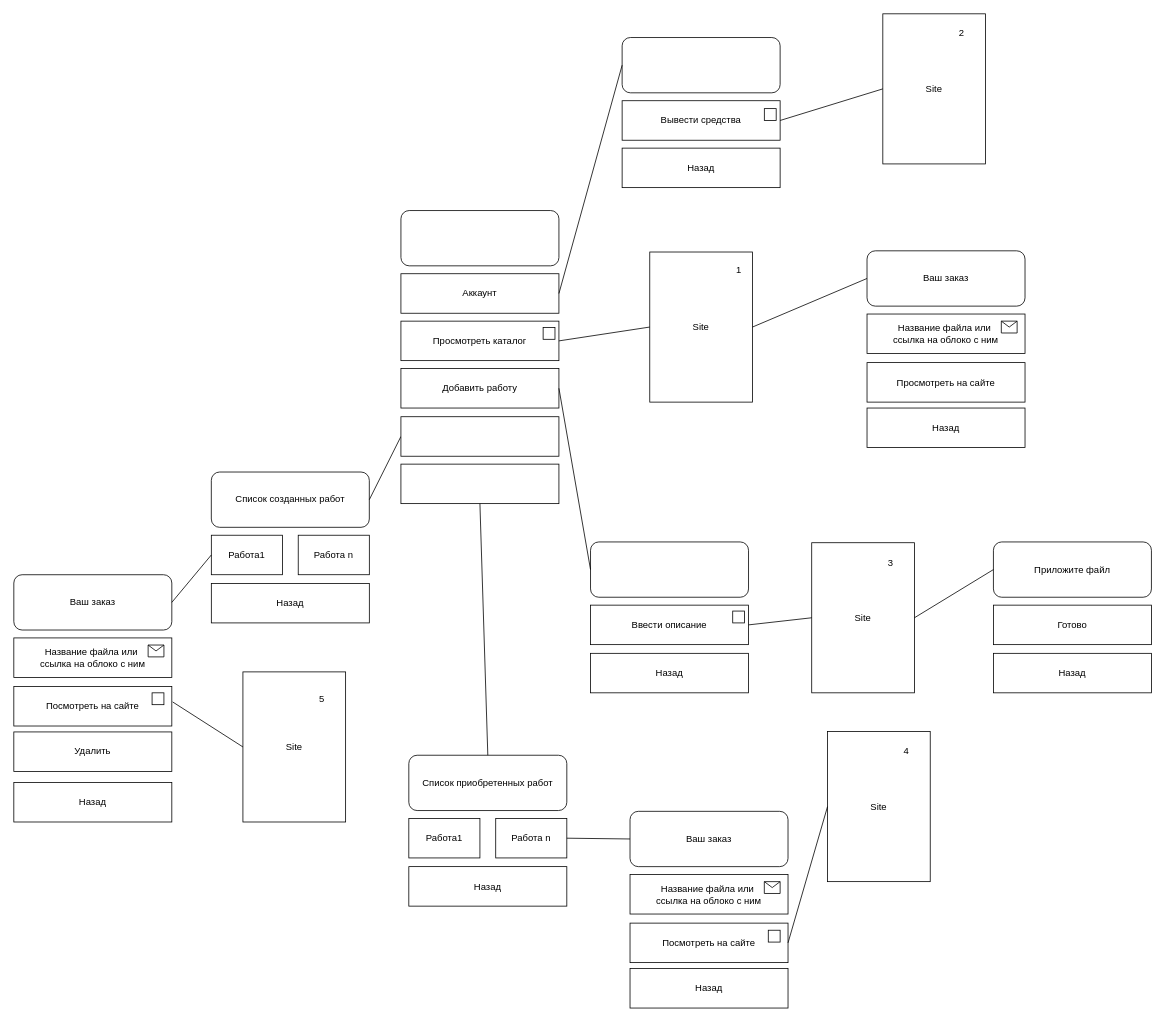
Some shapes in this 1165 by 1022 pixel diagram are drawn without their labels. The shapes that lost their labels are listed below. From the top down, each one's centre as x and y in pixels, then its label:
At (x=700, y=65): "Сообщение со статистикой".
At (x=479, y=238): "Здраствуйте! Я Бот".
At (x=479, y=436): "Просмотреть список работ".
At (x=479, y=483): "Посмотреть список приобретенных работ".
At (x=669, y=569): "Для добавления работы нужно ввести описание а потом прикрепить файл самой работы".
